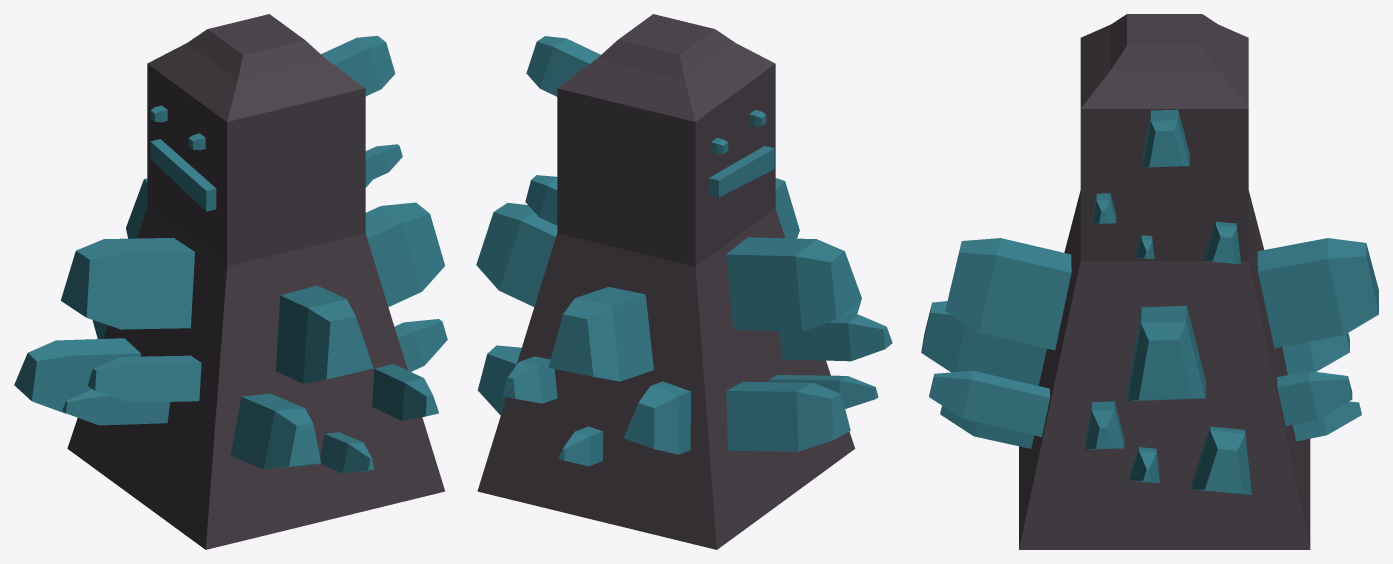
File: Krab4.fbx
3 renders of one model, left to right at view 1: azimuth 30°, elevation 25°; view 2: azimuth 150°, elevation 25°; view 3: azimuth 270°, elevation 25°, orthographic. The views are drawn at different scales.
Visible parts, largest first — view 1: Cube.030; view 2: Cube.030; view 3: Cube.030.
Part boxes in pixels (bbox=[...]): Cube.030: bbox=[14, 14, 447, 549]; Cube.030: bbox=[476, 14, 892, 549]; Cube.030: bbox=[921, 14, 1378, 549].
Bounding box in the file's own units: 1.06 × 1.15 × 1.04.
